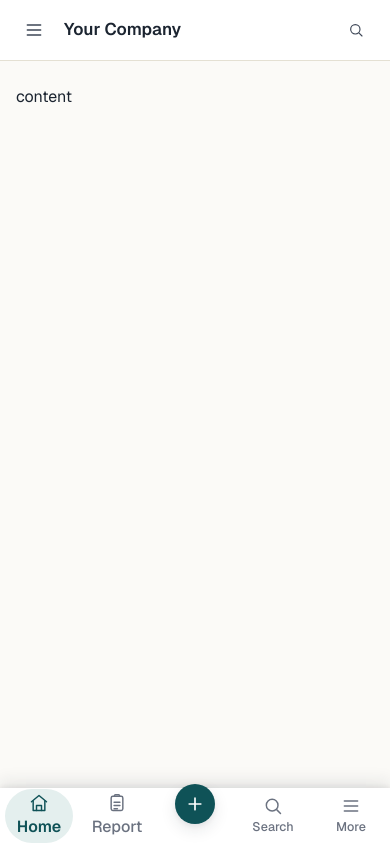
Test: AppShell — PWA install › tapping "More" on the Supervisor bar opens the full sidebar drawer, where Materials and Help now live
What coordinates should you click on to do the following:
click the button "More"
I would click on:
 (351, 816)
Its box is [312,788,389,843].
(page scrolled)
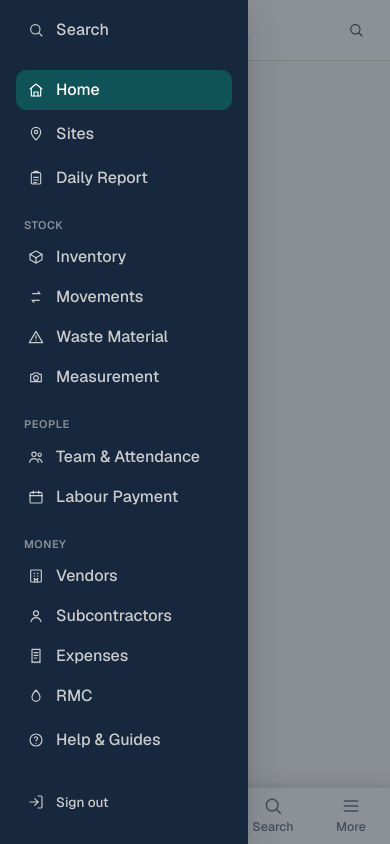
Expected: the button named "Open navigation menu" is expanded, [16,12,52,48]
Expected: the element with id "app-mobile-nav" is shown
Expected: the link "Movements" is shown, [28,286,143,307]
